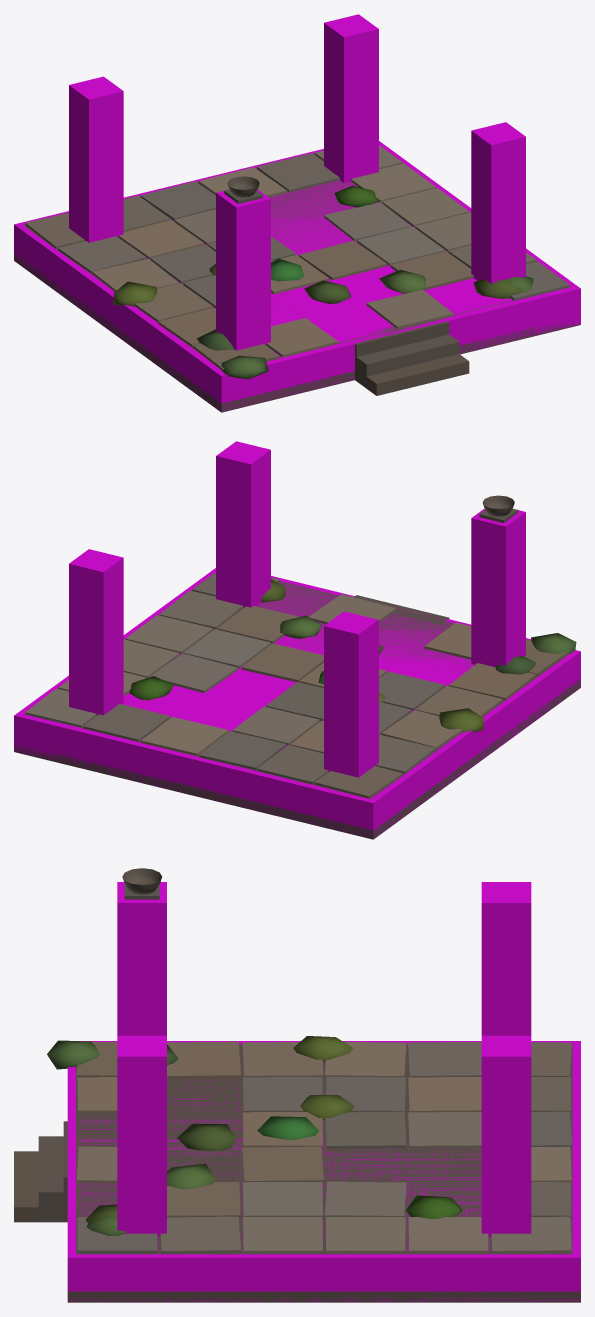
The model's file is ENV_Ruin_Mandapa_Base_A.glb.
3 views of the same model, one above another, from view 1: azimuth 30°, elevation 25°; view 2: azimuth 150°, elevation 25°; view 3: azimuth 270°, elevation 25° (orthographic). The views are drawn at different scales.
Parts seen in each view (by area): view 1: ENV_Ruin_Mandapa_Base_A_Mesh, WALK_Platform, COL_Stump_2.2_2.2, COL_Stump_-2.2_2.2, COL_Stump_2.2_-2.2, COL_Stump_-2.2_-2.2, Stump_-2.2_-2.2; view 2: ENV_Ruin_Mandapa_Base_A_Mesh, WALK_Platform, COL_Stump_2.2_2.2, COL_Stump_-2.2_2.2, COL_Stump_2.2_-2.2, COL_Stump_-2.2_-2.2, Stump_-2.2_-2.2; view 3: ENV_Ruin_Mandapa_Base_A_Mesh, WALK_Platform, COL_Stump_2.2_2.2, COL_Stump_2.2_-2.2, COL_Stump_-2.2_2.2, COL_Stump_-2.2_-2.2, Stump_-2.2_-2.2.
Boxes of the visible parts, bbox=[...] form: ENV_Ruin_Mandapa_Base_A_Mesh: bbox=[14, 145, 580, 412]; WALK_Platform: bbox=[14, 141, 580, 412]; COL_Stump_2.2_2.2: bbox=[324, 14, 378, 182]; COL_Stump_-2.2_2.2: bbox=[69, 76, 123, 242]; COL_Stump_2.2_-2.2: bbox=[471, 122, 525, 283]; COL_Stump_-2.2_-2.2: bbox=[216, 189, 270, 350]; Stump_-2.2_-2.2: bbox=[224, 176, 262, 203]; ENV_Ruin_Mandapa_Base_A_Mesh: bbox=[14, 572, 580, 839]; WALK_Platform: bbox=[14, 568, 580, 838]; COL_Stump_2.2_2.2: bbox=[69, 549, 123, 715]; COL_Stump_-2.2_2.2: bbox=[324, 611, 378, 777]; COL_Stump_2.2_-2.2: bbox=[216, 441, 270, 607]; COL_Stump_-2.2_-2.2: bbox=[471, 508, 525, 667]; Stump_-2.2_-2.2: bbox=[479, 495, 517, 523]; ENV_Ruin_Mandapa_Base_A_Mesh: bbox=[14, 1036, 580, 1302]; WALK_Platform: bbox=[67, 1041, 580, 1302]; COL_Stump_2.2_2.2: bbox=[481, 1035, 531, 1236]; COL_Stump_2.2_-2.2: bbox=[117, 1035, 166, 1236]; COL_Stump_-2.2_2.2: bbox=[481, 882, 531, 1035]; COL_Stump_-2.2_-2.2: bbox=[117, 882, 166, 1035]; Stump_-2.2_-2.2: bbox=[122, 868, 162, 899].
Size of the model in its own units: 6.29 by 3.21 by 6.85.
